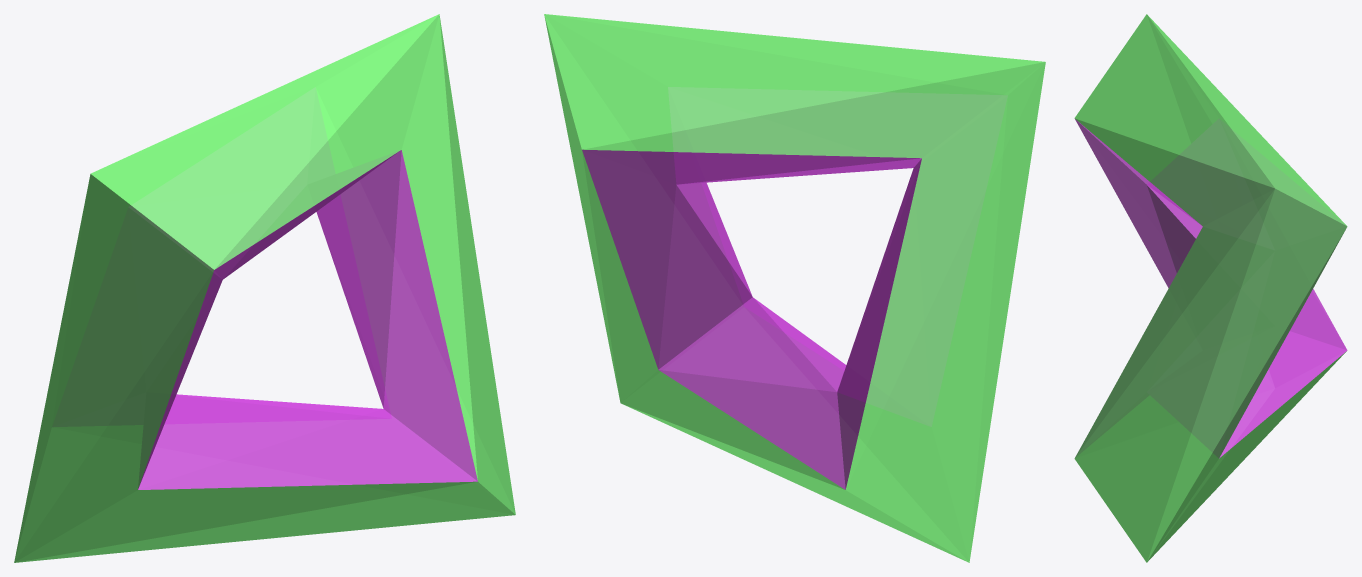
The model's file is Regular4TetragonalToroidSin.obj.
The picture shows the model from 3 angles, left to right: view 1: azimuth 30°, elevation 25°; view 2: azimuth 150°, elevation 25°; view 3: azimuth 270°, elevation 25°; orthographic projection. The views are drawn at different scales.
Size of the model in its own units: 2 by 2 by 1.32.
